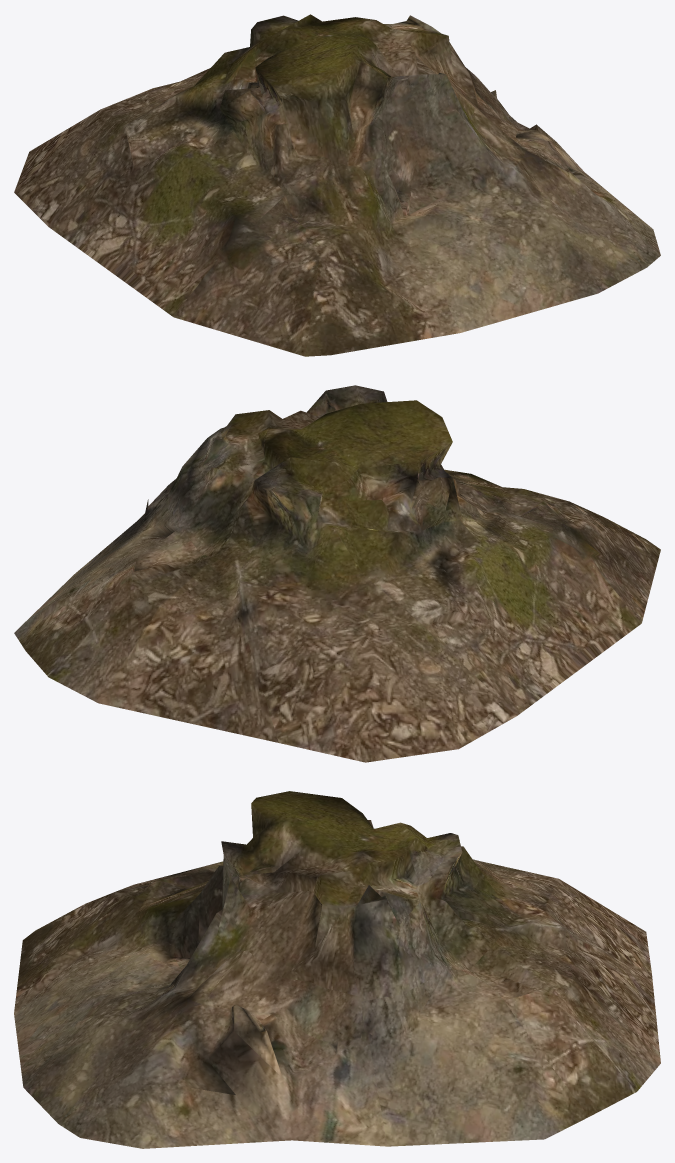
Rendered from tree_stump_01.glb.
The picture shows the model from 3 angles, top to bottom: view 1: azimuth 30°, elevation 25°; view 2: azimuth 150°, elevation 25°; view 3: azimuth 270°, elevation 25°; orthographic projection. The views are drawn at different scales.
Visible parts, largest first — view 1: tree_stump_01; view 2: tree_stump_01; view 3: tree_stump_01.
Boxes of the visible parts, bbox=[...] form: tree_stump_01: bbox=[14, 14, 660, 356]; tree_stump_01: bbox=[14, 385, 660, 762]; tree_stump_01: bbox=[14, 791, 660, 1148].
Bounding box in the file's own units: 1.42 × 0.5621 × 1.59.
Materials: 1 (1 with a texture image).
